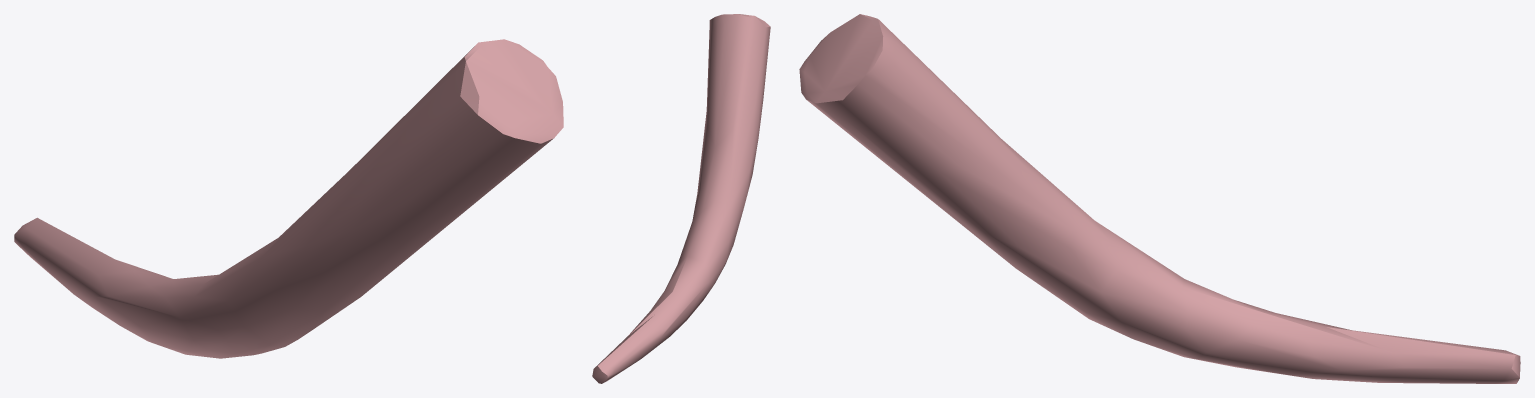
The model's file is fma68233_fj2528.glb.
3 renders of one model, left to right at view 1: azimuth 30°, elevation 25°; view 2: azimuth 150°, elevation 25°; view 3: azimuth 270°, elevation 25°, orthographic. The views are drawn at different scales.
Parts seen in each view (by area): view 1: FMA68233_FJ2528; view 2: FMA68233_FJ2528; view 3: FMA68233_FJ2528.
Part boxes in pixels (left/top/right/bottom): FMA68233_FJ2528: left=14, top=39, right=563, bottom=358; FMA68233_FJ2528: left=592, top=14, right=770, bottom=383; FMA68233_FJ2528: left=799, top=14, right=1520, bottom=383.
Bounding box in the file's own units: 0.0113 × 0.0264 × 0.0431.
